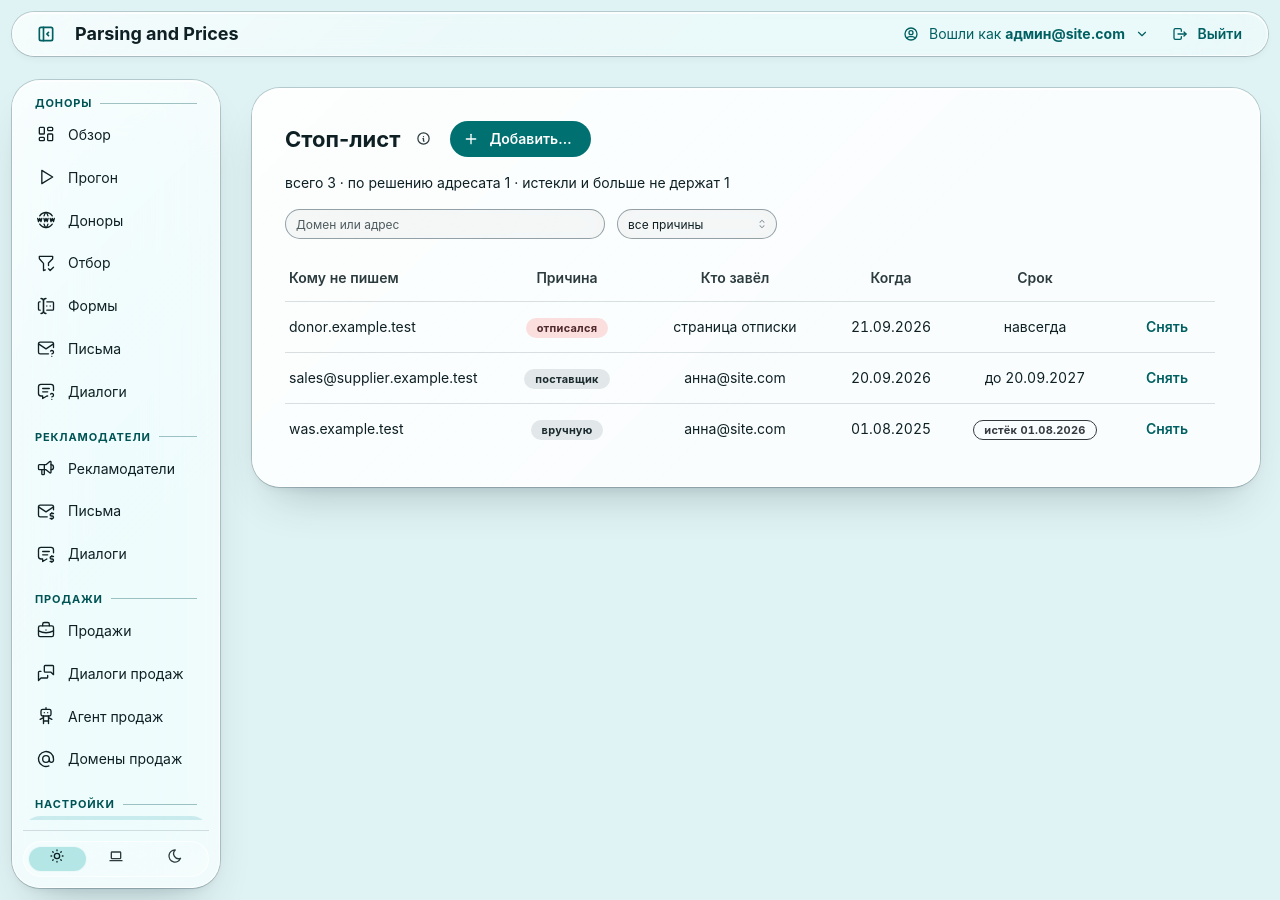
Test: стоп-лист › снятие отписки требует причины
Expected: the text "donor.example.test" is shown, [285, 302, 495, 352]
Click the button "Снять" in the row of "donor": (1167, 327) [1137, 314, 1197, 340]
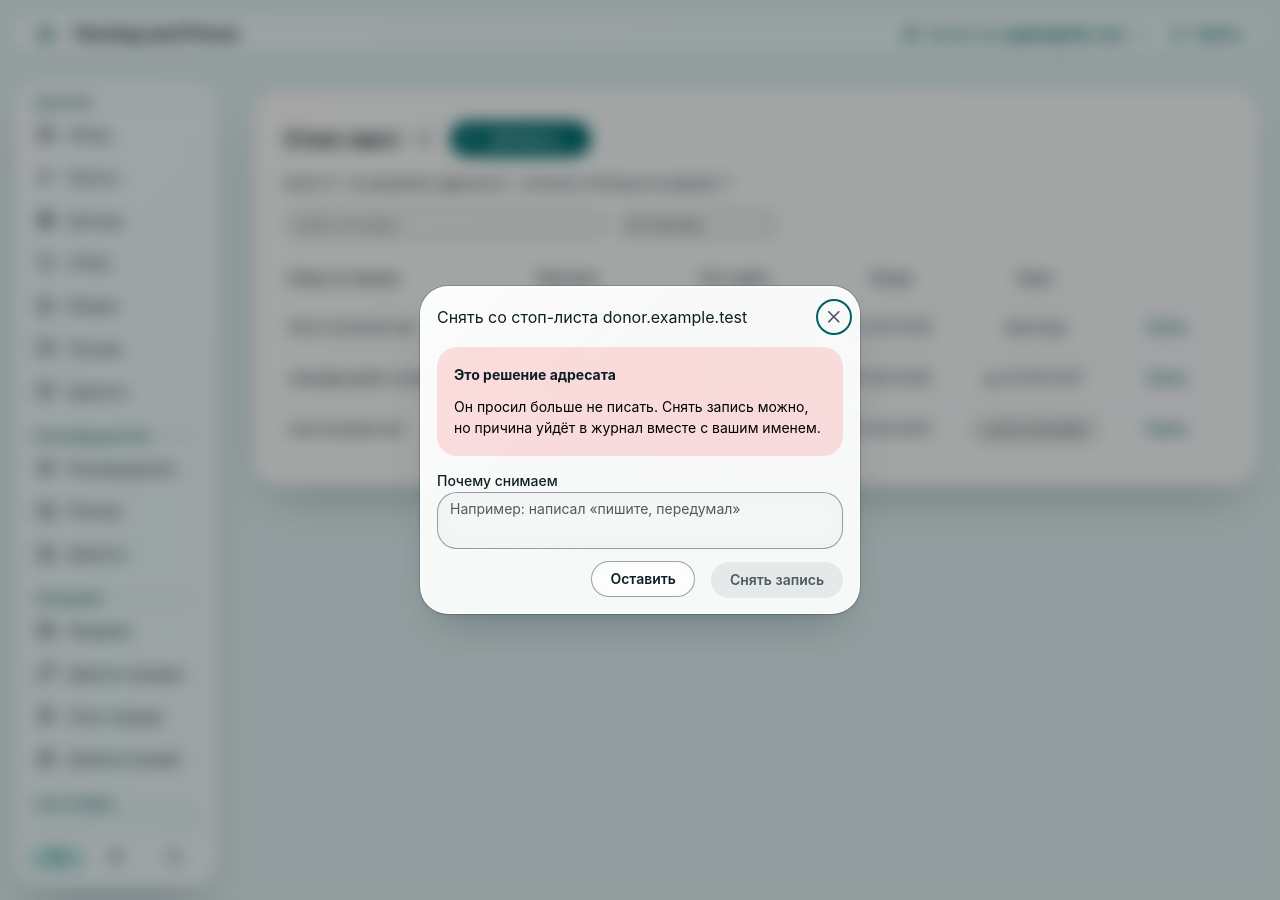
Expected: the text "Это решение адресата" is shown, [454, 364, 616, 385]
Expected: the button "Снять запись" is disabled, [711, 561, 843, 597]
